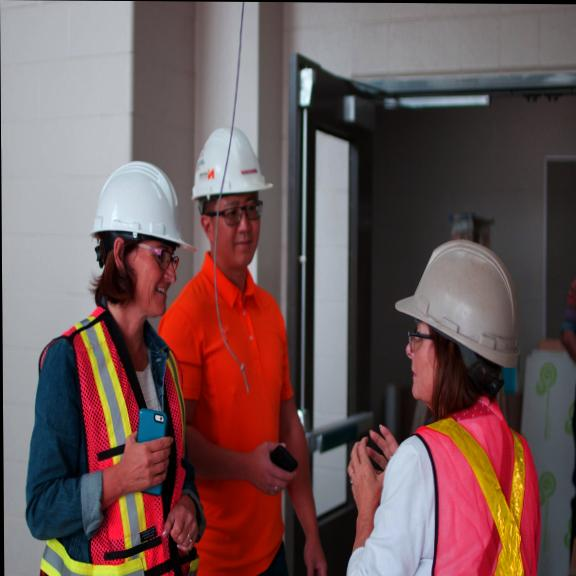no_safety_vest: (163, 271, 291, 552), (565, 260, 576, 375)
safety_vest: (31, 306, 198, 576), (377, 405, 545, 576)
